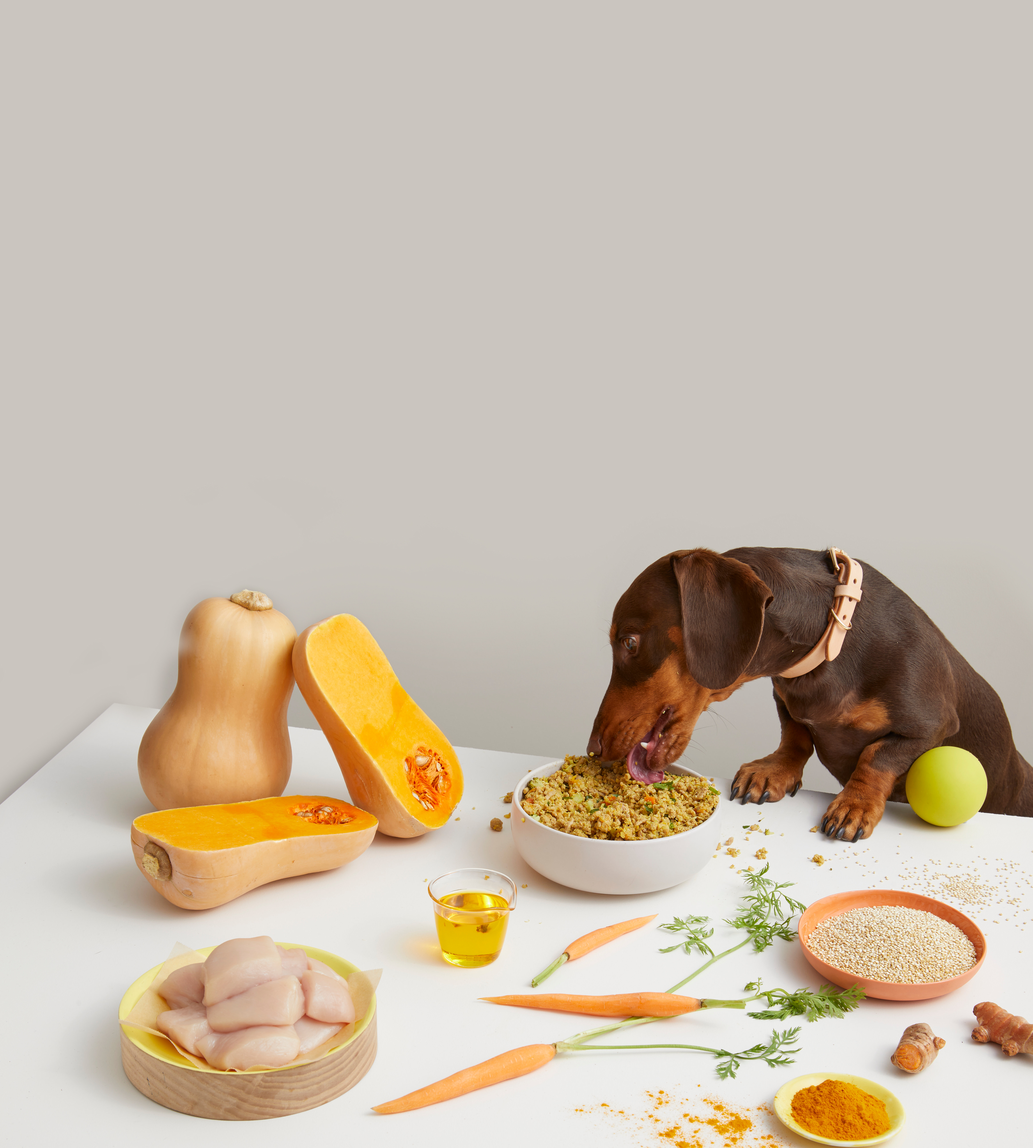Dog: (541, 493, 1033, 866)
